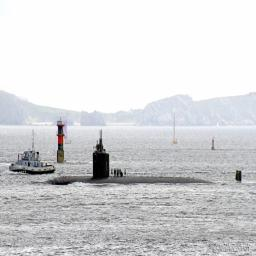submarine: (47, 130, 243, 185)
